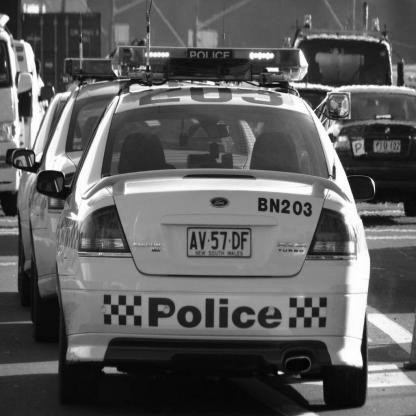car: (42, 42, 393, 406)
